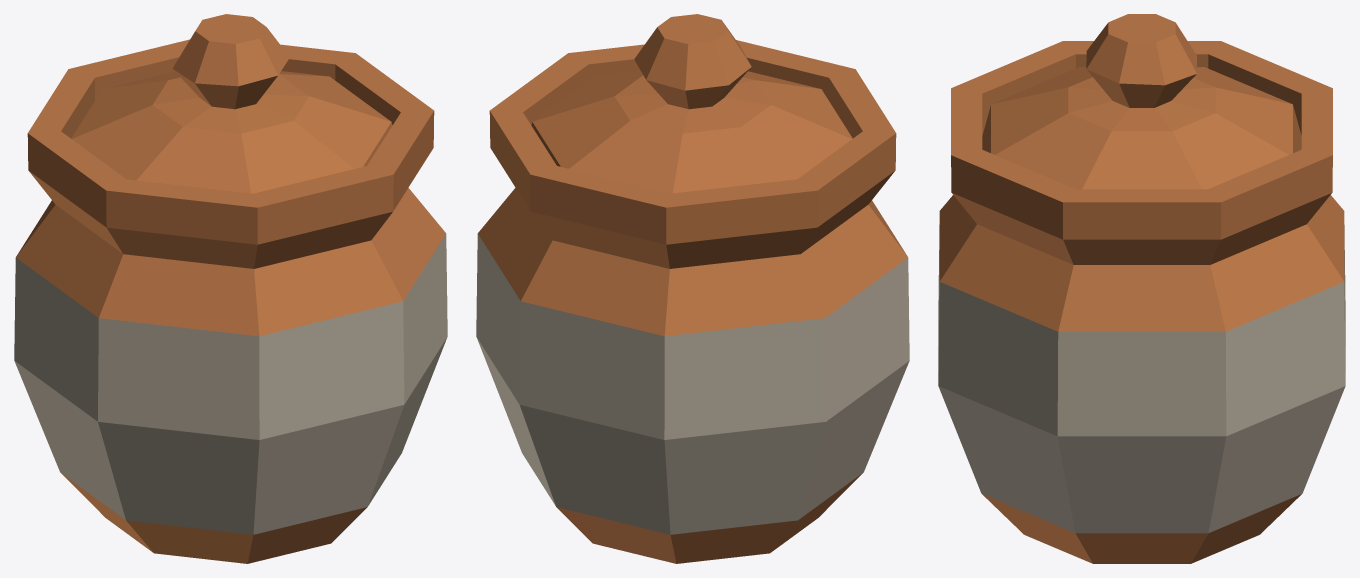
Rendered from kingdom_SM_Item_Jar_03.gltf.
The picture shows the model from 3 angles, left to right: view 1: azimuth 30°, elevation 25°; view 2: azimuth 150°, elevation 25°; view 3: azimuth 270°, elevation 25°; orthographic projection.
Visible parts, largest first — view 1: SM_Item_Jar_03; view 2: SM_Item_Jar_03; view 3: SM_Item_Jar_03.
Boxes of the visible parts, x1,y1,x2,y2 form: SM_Item_Jar_03: (14,14,447,563); SM_Item_Jar_03: (476,14,909,563); SM_Item_Jar_03: (938,14,1345,563).
Size of the model in its own units: 0.1282 by 0.1688 by 0.1282.
Materials: 1 (1 with a texture image).
